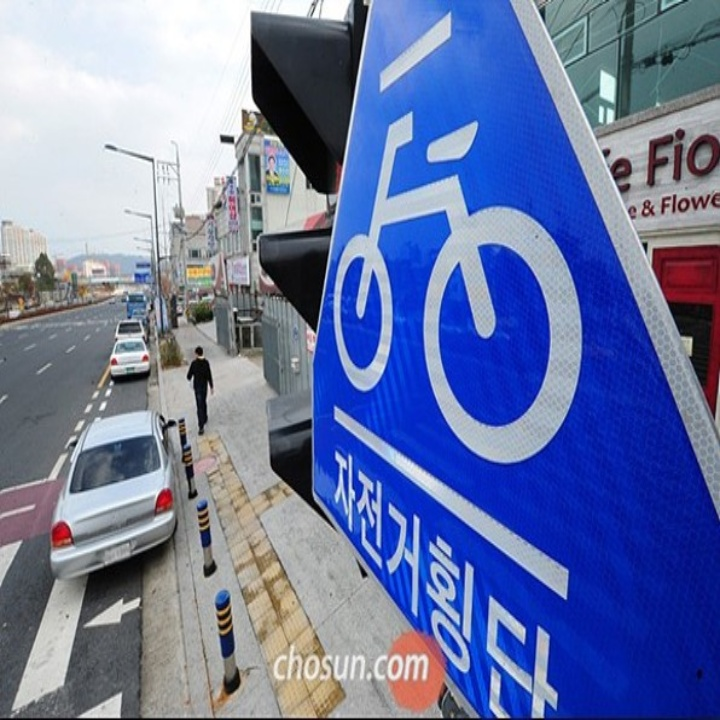bicycle: (231, 223, 485, 477)
